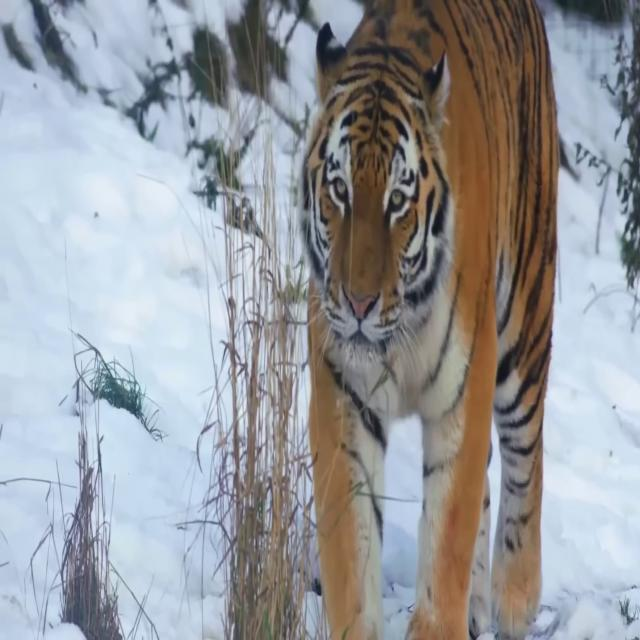tiger: (302, 0, 558, 640)
